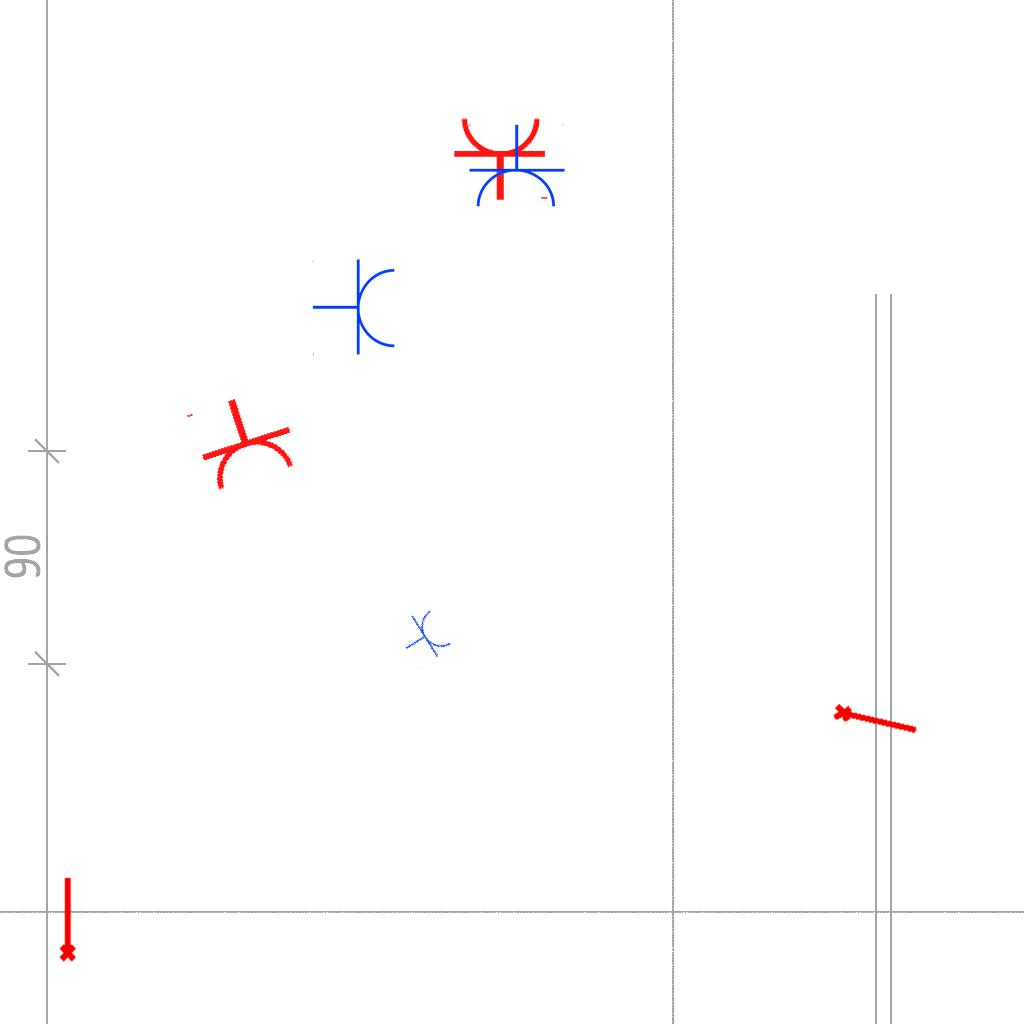ASR_Ansaugoeffnung: (830, 698, 922, 741), (55, 875, 78, 963)
Schukosteckdose_einfach: (181, 383, 304, 497), (312, 258, 399, 358), (452, 115, 552, 202), (466, 124, 566, 211), (392, 604, 456, 671)
